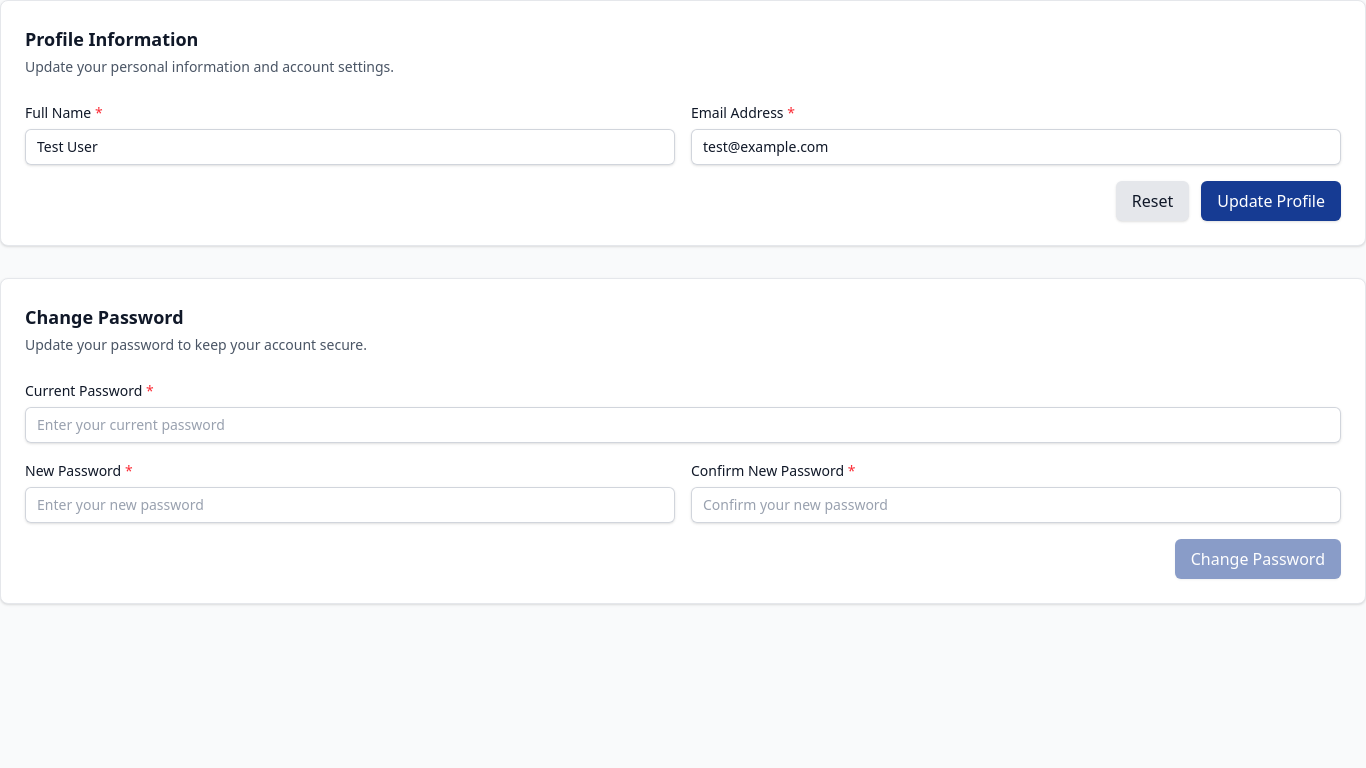
Scenario: ProfileSettings › Profile Information Form › should display error message on failed update
The width and height of the screenshot is (1366, 768).
Replace the text in the field with test id "profile-name-input" with "New Name" at {"x": 350, "y": 147}, box [25,129,675,165]
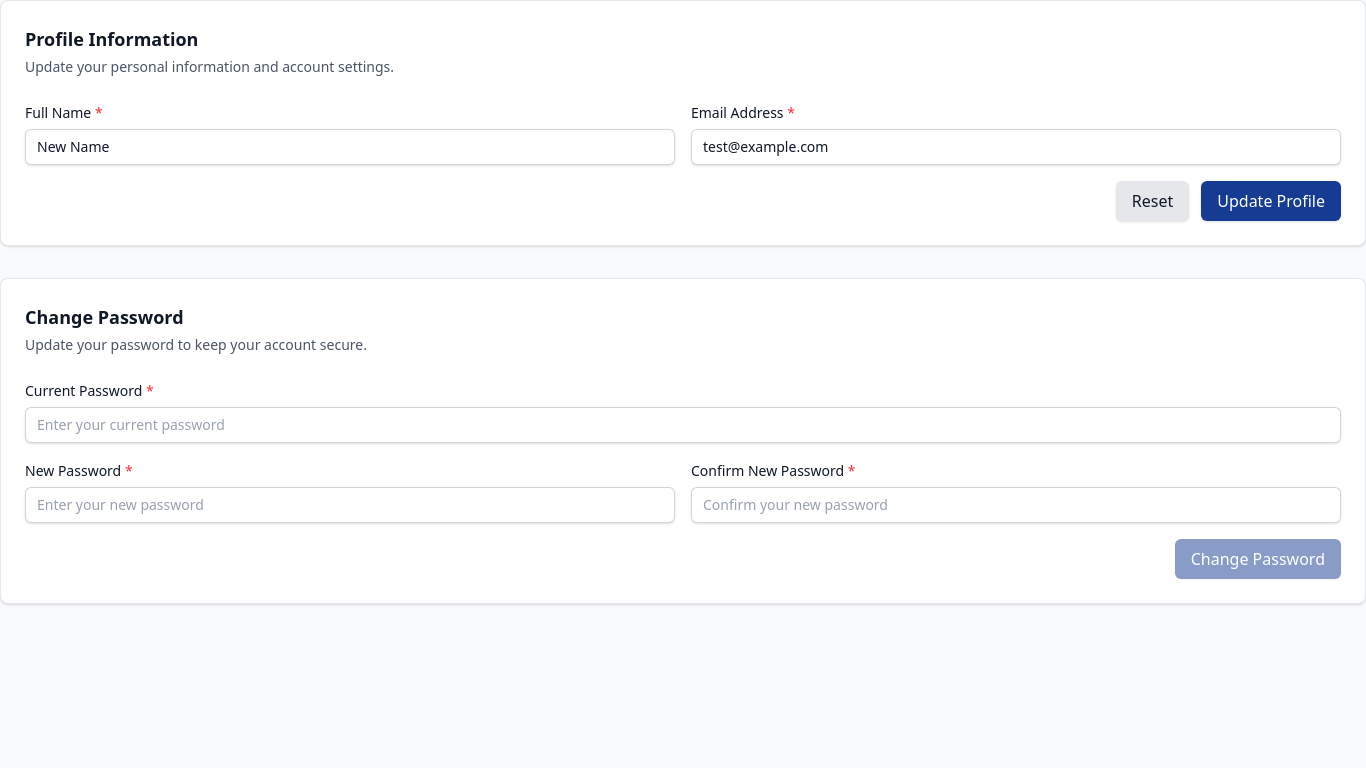
Click the button "Update Profile".
click(1271, 201)  # box [1201,181,1341,221]
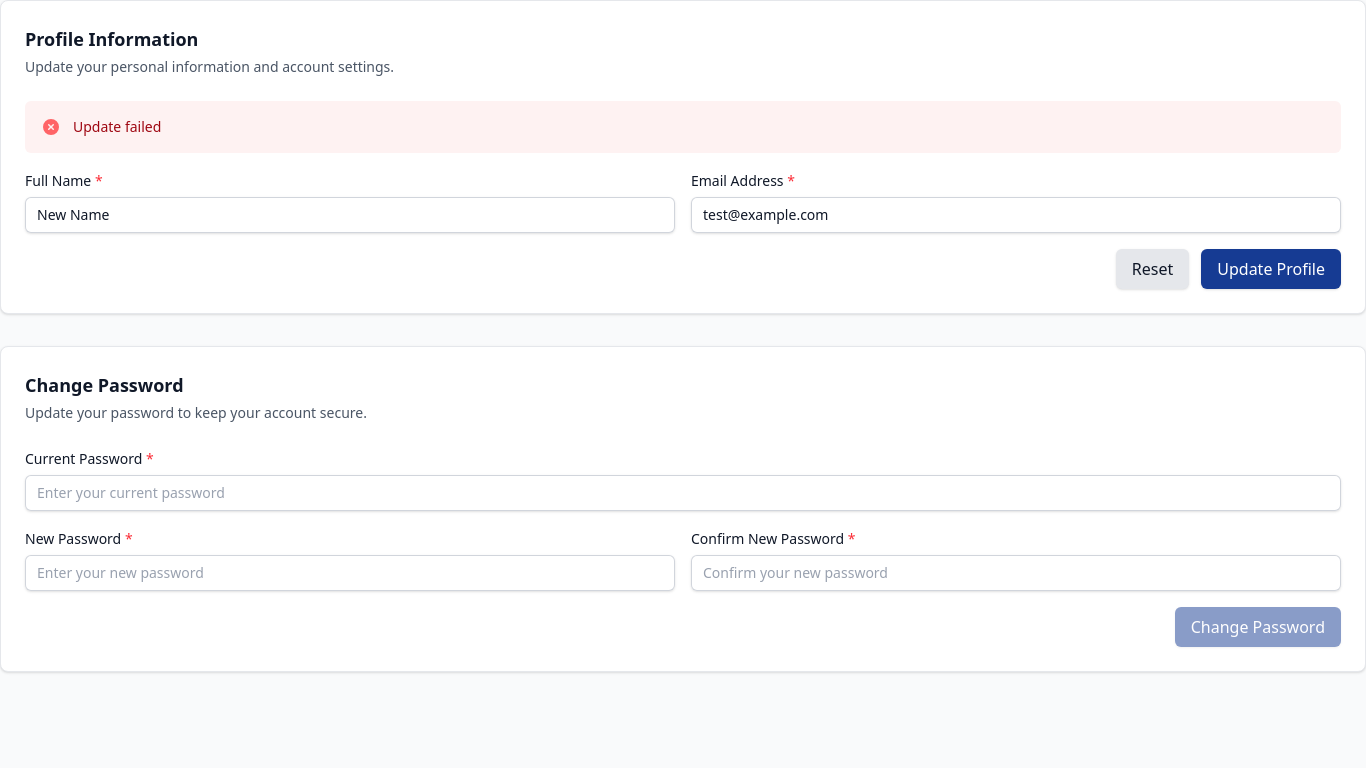
Expected: the text "Update failed" is shown, [73,117,161,137]
